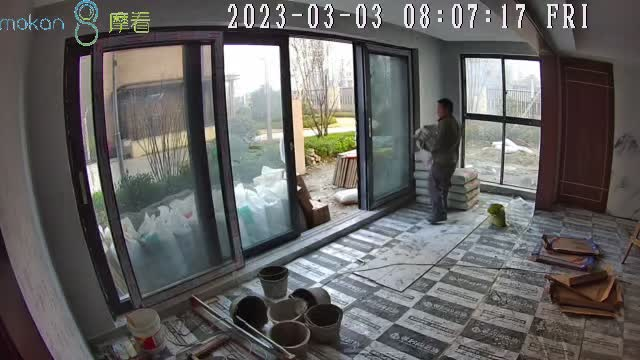people: (419, 99, 462, 223)
window: (69, 34, 414, 317), (462, 56, 542, 190)
